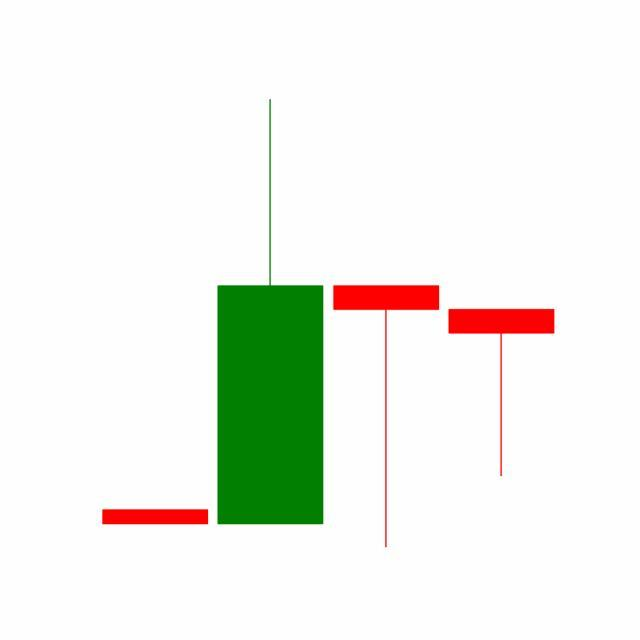Hammer: (329, 283, 445, 551)
